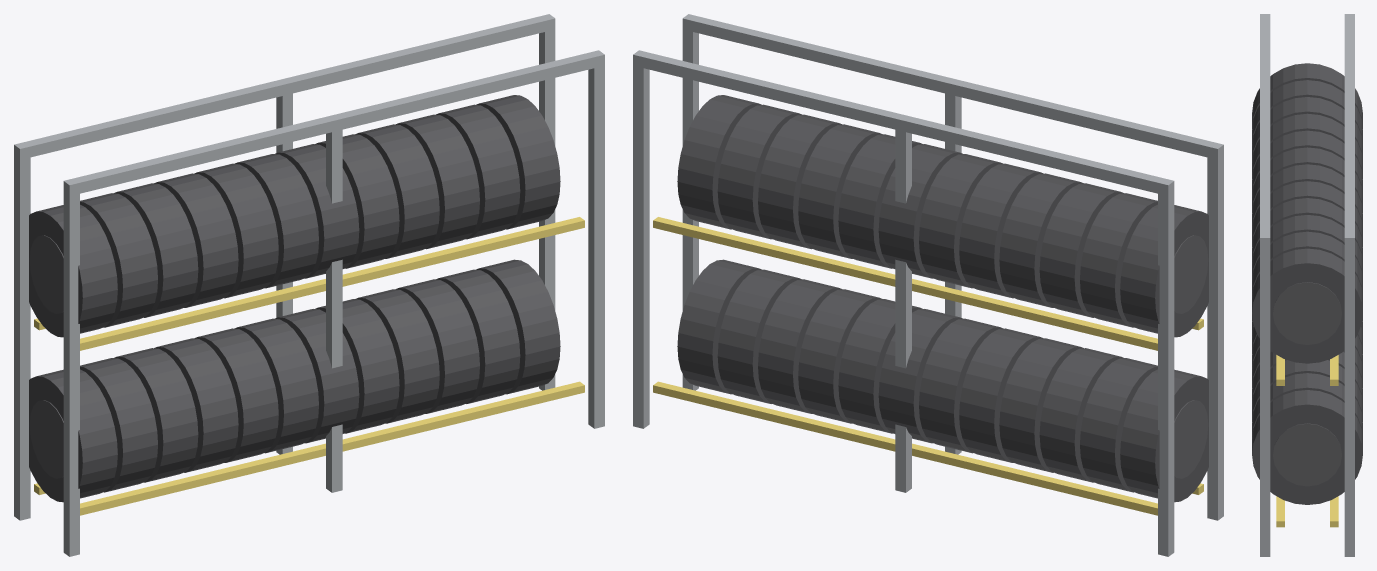
File: tire_rack.glb
3 views of the same model, side by side, from view 1: azimuth 30°, elevation 25°; view 2: azimuth 150°, elevation 25°; view 3: azimuth 270°, elevation 25° (orthographic). The views are drawn at different scales.
Parts seen in each view (by area): view 1: tire_rack_rubber, tire_rack_steel, tire_rack_paint_y, tire_rack_dark; view 2: tire_rack_rubber, tire_rack_steel, tire_rack_paint_y, tire_rack_dark; view 3: tire_rack_rubber, tire_rack_steel, tire_rack_dark, tire_rack_paint_y.
Part boxes in pixels (x1,y1,x2,y2): tire_rack_rubber: (29,95,560,502); tire_rack_steel: (14,14,604,556); tire_rack_paint_y: (34,217,584,515); tire_rack_dark: (29,235,63,478); tire_rack_rubber: (677,95,1208,502); tire_rack_steel: (633,14,1223,556); tire_rack_paint_y: (653,217,1203,515); tire_rack_dark: (1174,235,1208,478); tire_rack_rubber: (1252,63,1362,504); tire_rack_steel: (1260,14,1354,556); tire_rack_dark: (1273,282,1341,486); tire_rack_paint_y: (1276,355,1338,527).
Size of the model in its own units: 3.06 by 2.03 by 0.64.
